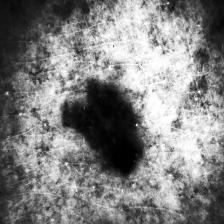Benign Marking or Mole: (64, 86, 141, 176)
